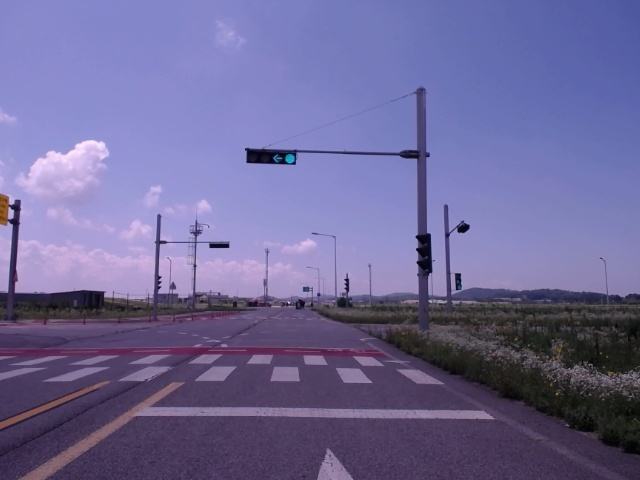all_green_4: (245, 148, 299, 167)
